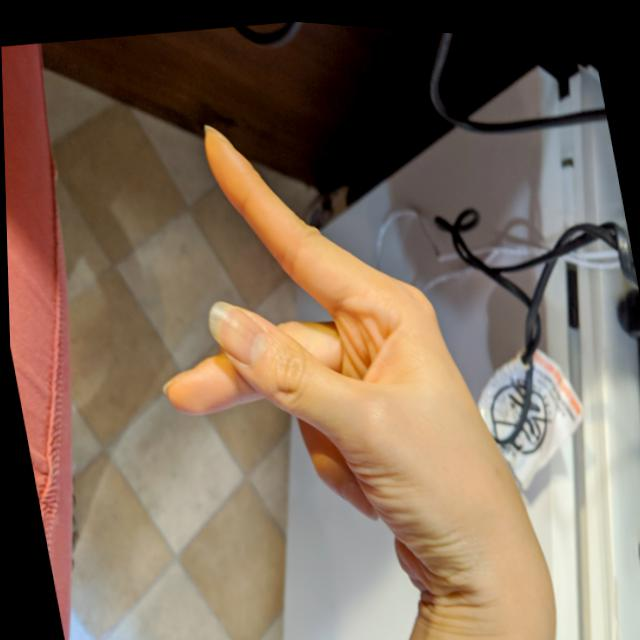P: (104, 69, 550, 631)
